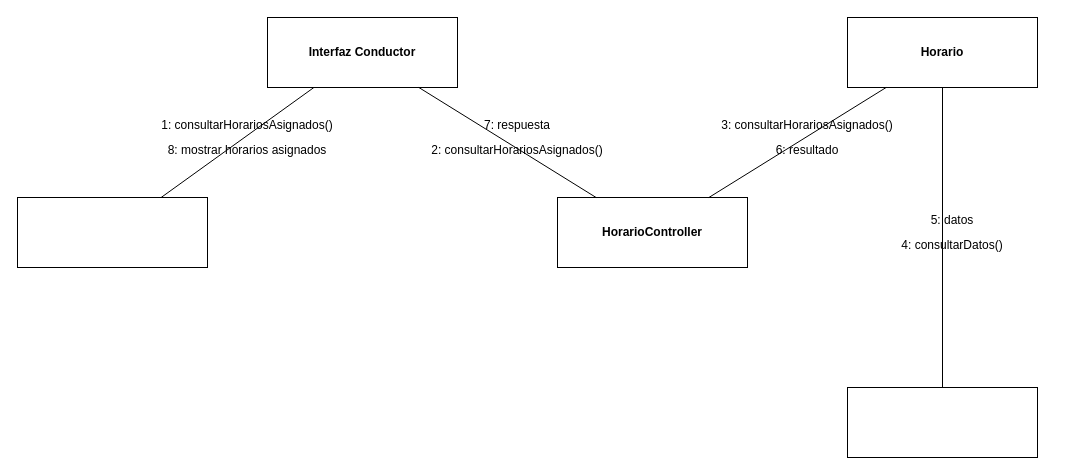
Some shapes in this 1075 by 475 pixel diagram are drawn without their labels. The box of each missing label's shape, as (x1, y1, x2, y2) in pixels:
Conductor: (16, 196, 208, 268)
Supabase/PostgreSQL: (846, 386, 1038, 458)
